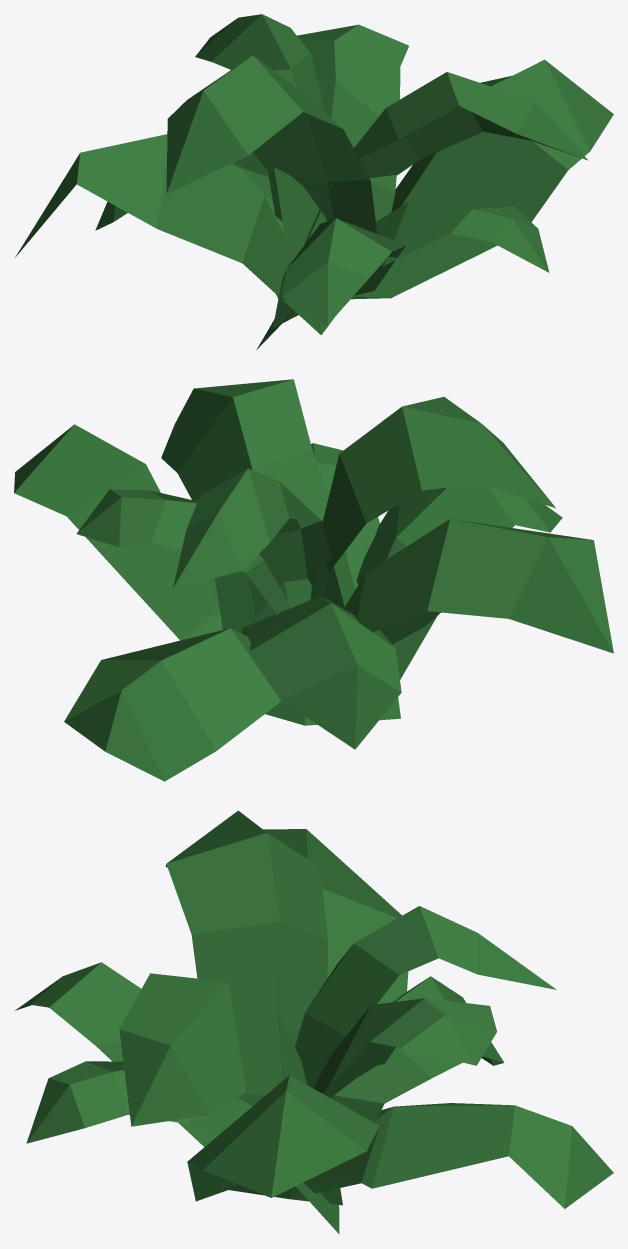
Rendered from fern.fbx.
The picture shows the model from 3 angles, top to bottom: view 1: azimuth 30°, elevation 25°; view 2: azimuth 150°, elevation 25°; view 3: azimuth 270°, elevation 25°; orthographic projection. The views are drawn at different scales.
Visible parts, largest first — view 1: fern; view 2: fern; view 3: fern.
Part boxes in pixels (bbox=[...]): fern: bbox=[15, 14, 613, 349]; fern: bbox=[14, 379, 613, 781]; fern: bbox=[15, 810, 613, 1233].
Size of the model in its own units: 745 by 361 by 594.
